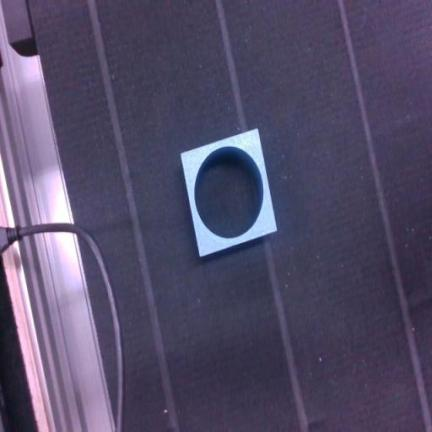hole: (182, 130, 276, 256)
